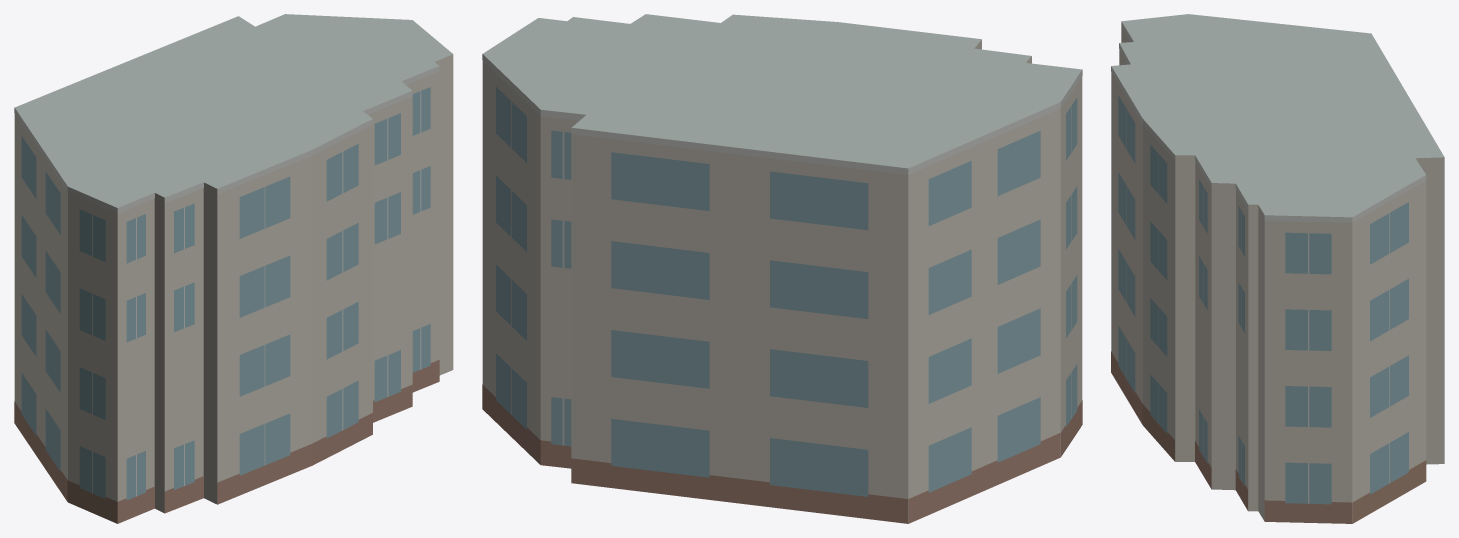
File: survey-upis-32819315.glb
The picture shows the model from 3 angles, left to right: view 1: azimuth 30°, elevation 25°; view 2: azimuth 150°, elevation 25°; view 3: azimuth 270°, elevation 25°; orthographic projection. The views are drawn at different scales.
Visible parts, largest first — view 1: survey-upis-32819315.tmp; view 2: survey-upis-32819315.tmp; view 3: survey-upis-32819315.tmp.
Part boxes in pixels (<box>): survey-upis-32819315.tmp: <box>14,14,453,523</box>; survey-upis-32819315.tmp: <box>482,14,1082,523</box>; survey-upis-32819315.tmp: <box>1111,14,1444,523</box>.
Size of the model in its own units: 19.07 by 13.4 by 13.22.
